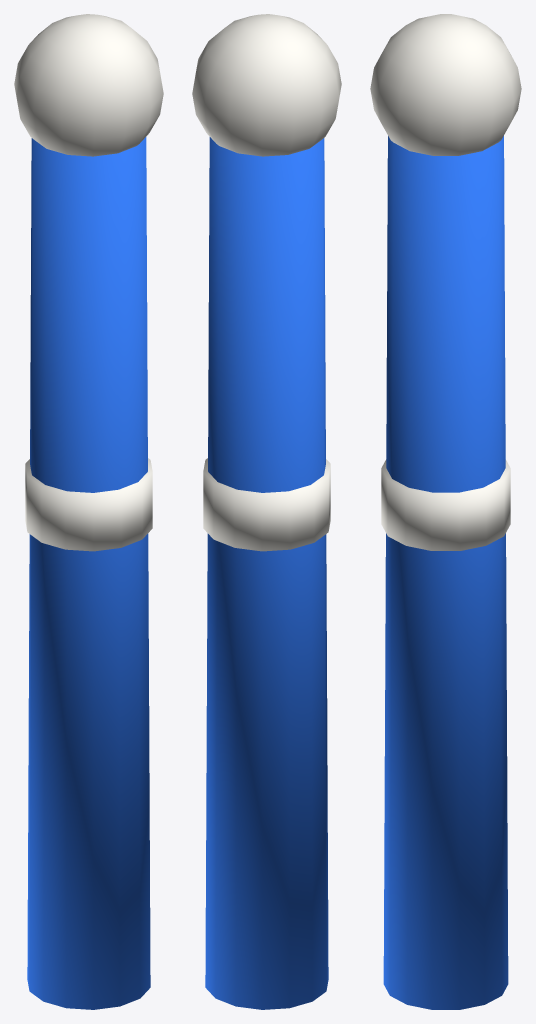
Rendered from post.glb.
The picture shows the model from 3 angles, left to right: view 1: azimuth 30°, elevation 25°; view 2: azimuth 150°, elevation 25°; view 3: azimuth 270°, elevation 25°; orthographic projection.
Parts seen in each view (by area): view 1: Post; view 2: Post; view 3: Post.
Boxes of the visible parts, left/top/right/bottom form: Post: left=14, top=14, right=163, bottom=1009; Post: left=192, top=14, right=341, bottom=1009; Post: left=370, top=14, right=521, bottom=1009.
Size of the model in its own units: 0.3315 by 2.39 by 0.34.
